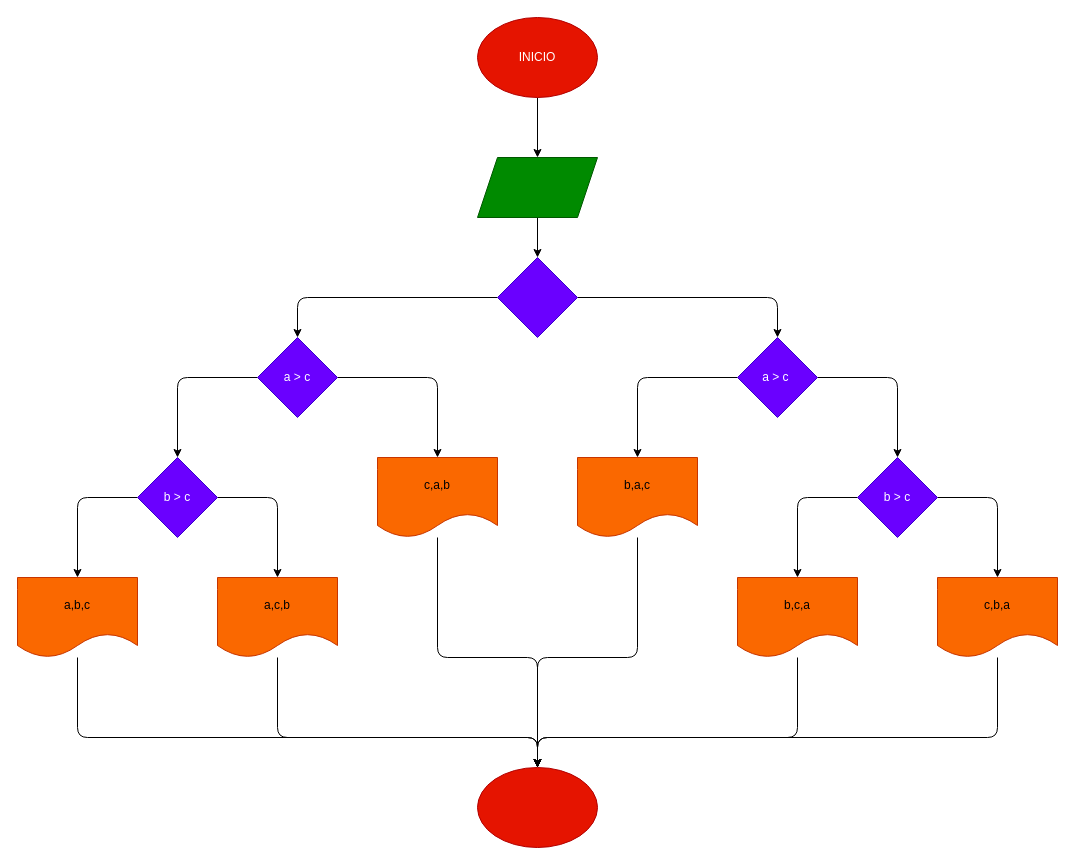
Some shapes in this 1075 by 865 pixel diagram are drawn without their labels. The centre of each missing label's shape, as x and y in pixels:
"a > b" belongs at (537,297).
"a, b, c" belongs at (537,187).
"FIN" belongs at (537,807).
